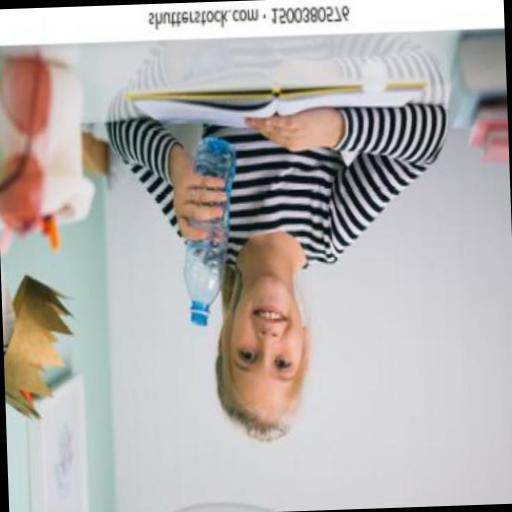Coca: (178, 136, 241, 326)
